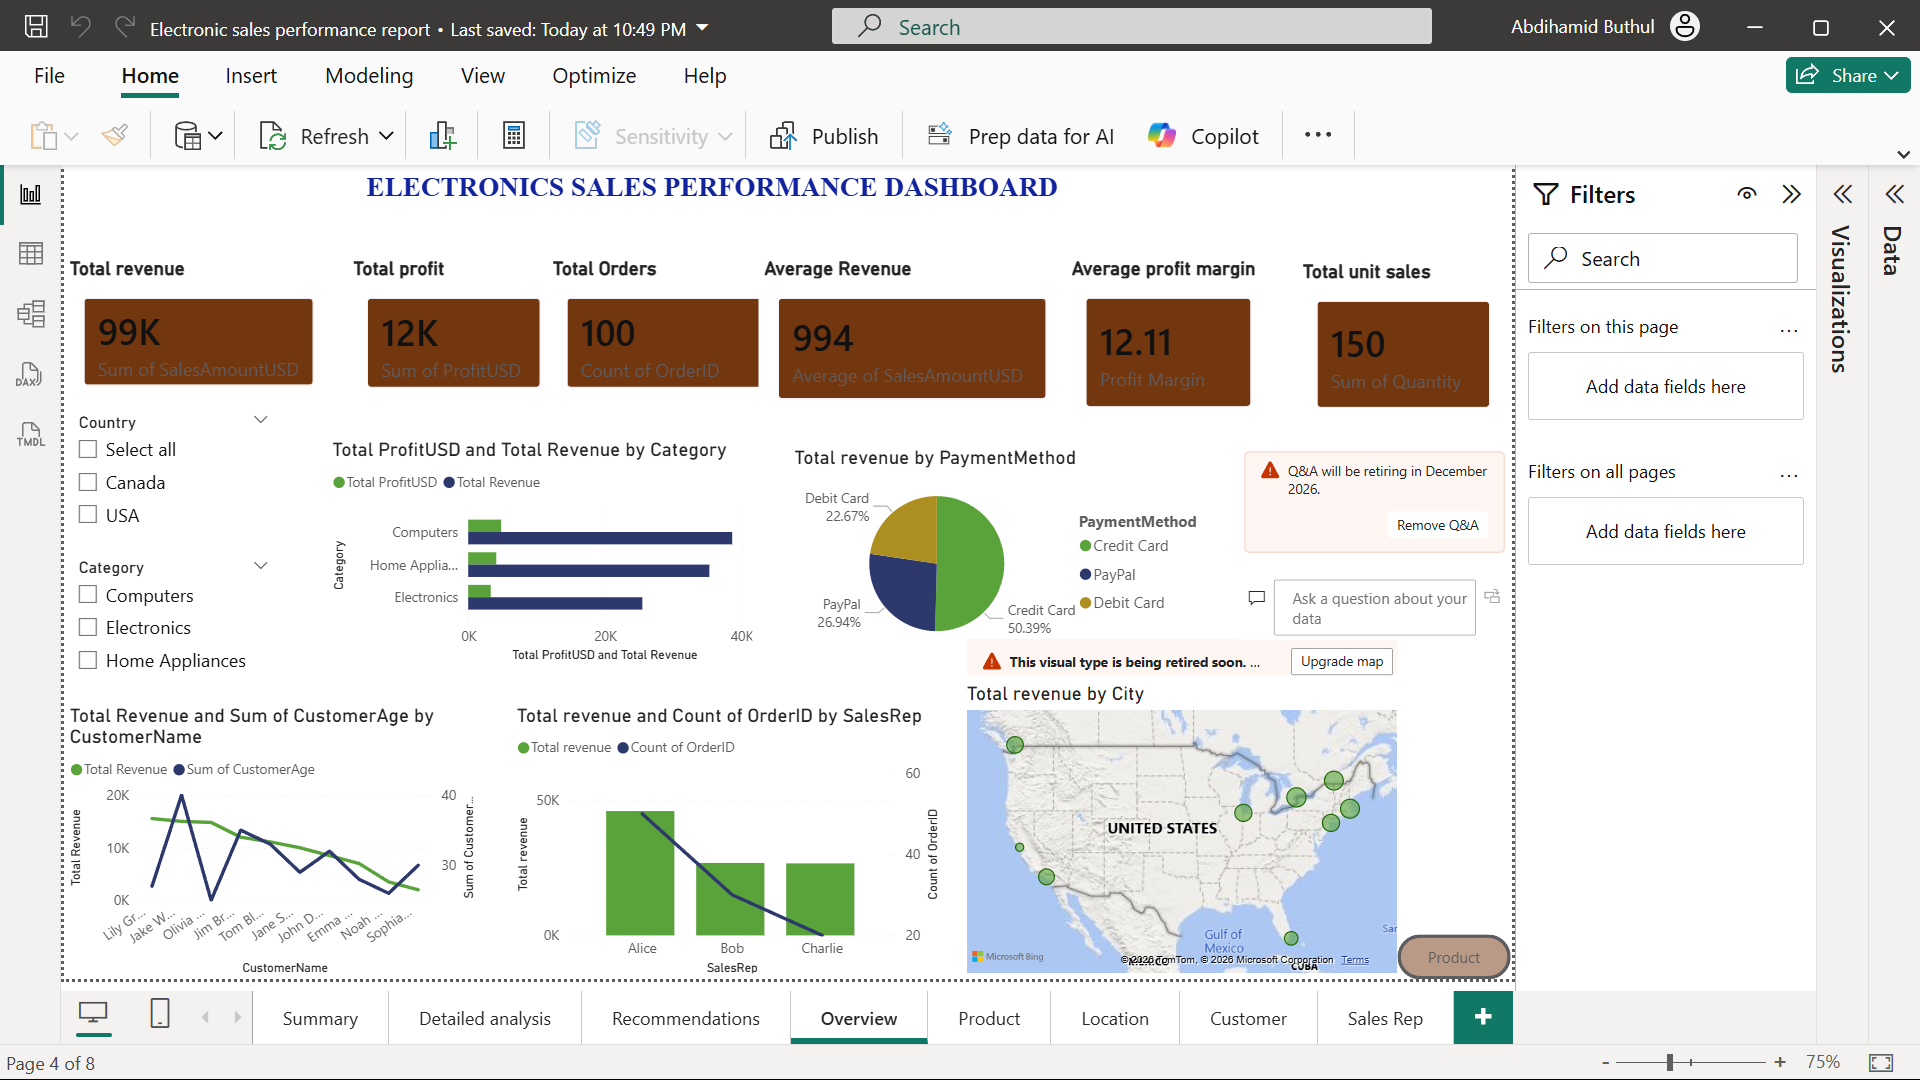

This screenshot's page, from the dashboard's own definition file:
{"tool":"powerbi","page":{"name":"Overview","canvas":[1280,720],"ordinal":3},"visuals":[{"type":"textbox","box":[9.4,0,1128.2,64.3],"z":0},{"type":"cardVisual","title":"Total revenue","fields":{"Data":["Sum(FactSales.SalesAmountUSD)"]},"box":[0,81.3,238.1,132.3],"z":1000},{"type":"cardVisual","title":"Total profit","fields":{"Data":["Sum(FactSales.ProfitUSD)"]},"box":[251.3,81.3,189,134.2],"z":2000},{"type":"cardVisual","title":"Total Orders","fields":{"Data":["CountNonNull(FactSales.OrderID)"]},"box":[427.1,81.3,213.5,134.2],"z":3000},{"type":"cardVisual","title":"Average Revenue","fields":{"Data":["Avg(FactSales.SalesAmountUSD)"]},"box":[614.2,81.3,272.1,143.6],"z":4000},{"type":"cardVisual","title":"Average profit margin","fields":{"Data":["FactSales.Profit Margin"]},"box":[886.3,81.3,181.4,151.2],"z":5000},{"type":"cardVisual","title":"Total unit sales","fields":{"Data":["Sum(FactSales.Quantity)"]},"box":[1090.4,83.2,189,149.3],"z":6000},{"type":"clusteredBarChart","fields":{"Category":["Product.Category"],"Y":["Sum(FactSales.ProfitUSD)","Sum(FactSales.SalesAmountUSD)"]},"box":[232.4,241.9,381.7,202.2],"z":7000},{"type":"pieChart","fields":{"Category":["FactSales.PaymentMethod"],"Y":["Sum(FactSales.SalesAmountUSD)"]},"box":[640.6,247.6,381.7,189],"z":8000},{"type":"slicer","fields":{"Values":["Customer.Country"]},"box":[0,213.5,192.8,145.5],"z":9000},{"type":"slicer","fields":{"Values":["Product.Category"]},"box":[0,342,192.8,120.9],"z":10000},{"type":"lineChart","fields":{"Category":["Customer.CustomerName"],"Y":["Sum(FactSales.SalesAmountUSD)"],"Y2":["Sum(Customer.CustomerAge)"]},"box":[0,476.2,368.5,243.8],"z":11000},{"type":"lineClusteredColumnComboChart","fields":{"Category":["FactSales.SalesRep"],"Y":["Sum(FactSales.SalesAmountUSD)"],"Y2":["CountNonNull(FactSales.OrderID)"]},"box":[395,476.2,383.6,243.8],"z":12000},{"type":"map","fields":{"Category":["Customer.City"],"Size":["Sum(FactSales.SalesAmountUSD)"]},"box":[793.7,419.5,391.2,300.5],"z":13000},{"type":"qnaVisual","box":[1039.4,247.6,240,172],"z":14000},{"type":"actionButton","box":[1179.2,680.3,100.2,39.7],"z":15000}]}

Visuals, with their boxes on the page's 1280x720 design canvas (x1, y1, x2, y2). These are canvas units, not pixel positions in the 1920x1080 screenshot, which may show the page scaled, cropped or inside an application window:
textbox: bbox=[9, 0, 1138, 64]
"Total revenue" cardVisual: bbox=[0, 81, 238, 214]
"Total profit" cardVisual: bbox=[251, 81, 440, 216]
"Total Orders" cardVisual: bbox=[427, 81, 641, 216]
"Average Revenue" cardVisual: bbox=[614, 81, 886, 225]
"Average profit margin" cardVisual: bbox=[886, 81, 1068, 232]
"Total unit sales" cardVisual: bbox=[1090, 83, 1279, 232]
clusteredBarChart - Product.Category x Sum(FactSales.ProfitUSD): bbox=[232, 242, 614, 444]
pieChart - FactSales.PaymentMethod x Sum(FactSales.SalesAmountUSD): bbox=[641, 248, 1022, 437]
slicer - Customer.Country: bbox=[0, 214, 193, 359]
slicer - Product.Category: bbox=[0, 342, 193, 463]
lineChart - Customer.CustomerName x Sum(FactSales.SalesAmountUSD): bbox=[0, 476, 368, 720]
lineClusteredColumnComboChart - FactSales.SalesRep x Sum(FactSales.SalesAmountUSD): bbox=[395, 476, 779, 720]
map - Customer.City x Sum(FactSales.SalesAmountUSD): bbox=[794, 420, 1185, 720]
qnaVisual: bbox=[1039, 248, 1279, 420]
actionButton: bbox=[1179, 680, 1279, 720]
